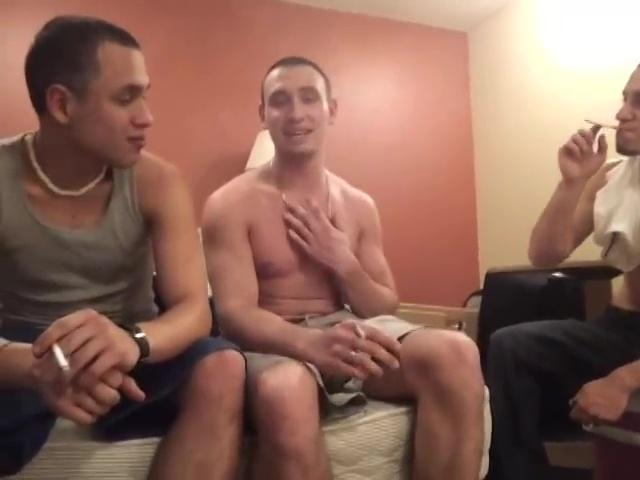cigarette: (46, 341, 72, 373), (584, 118, 623, 131)
